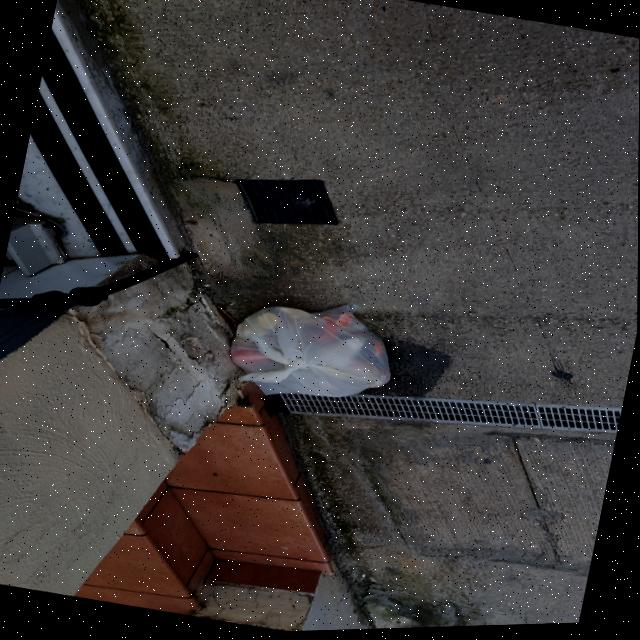Organic Waste -White Bag-: (211, 286, 411, 428)
